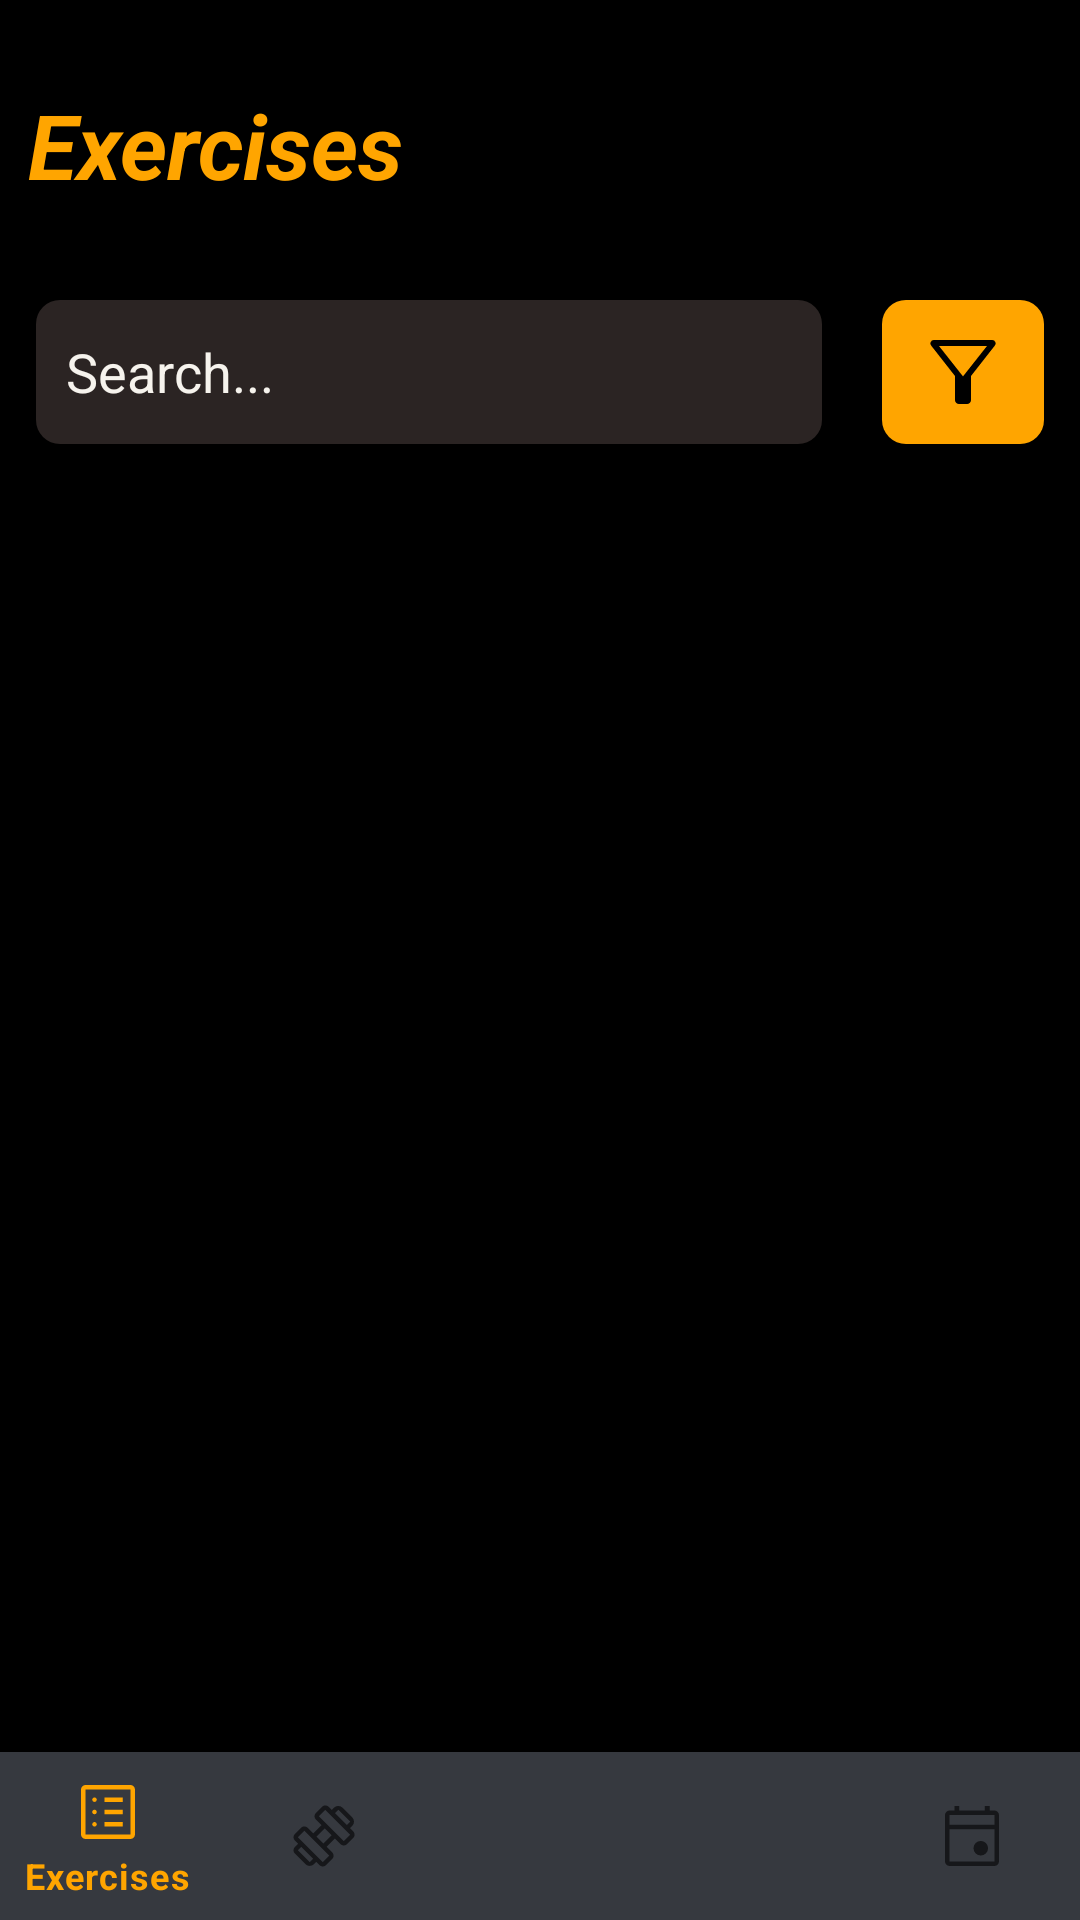

Locate icon controls on the screen. Image size 1080 x 1920, boxes as BBox(x1, y1, x2, y2).
filter: BBox(882, 300, 1044, 444)
